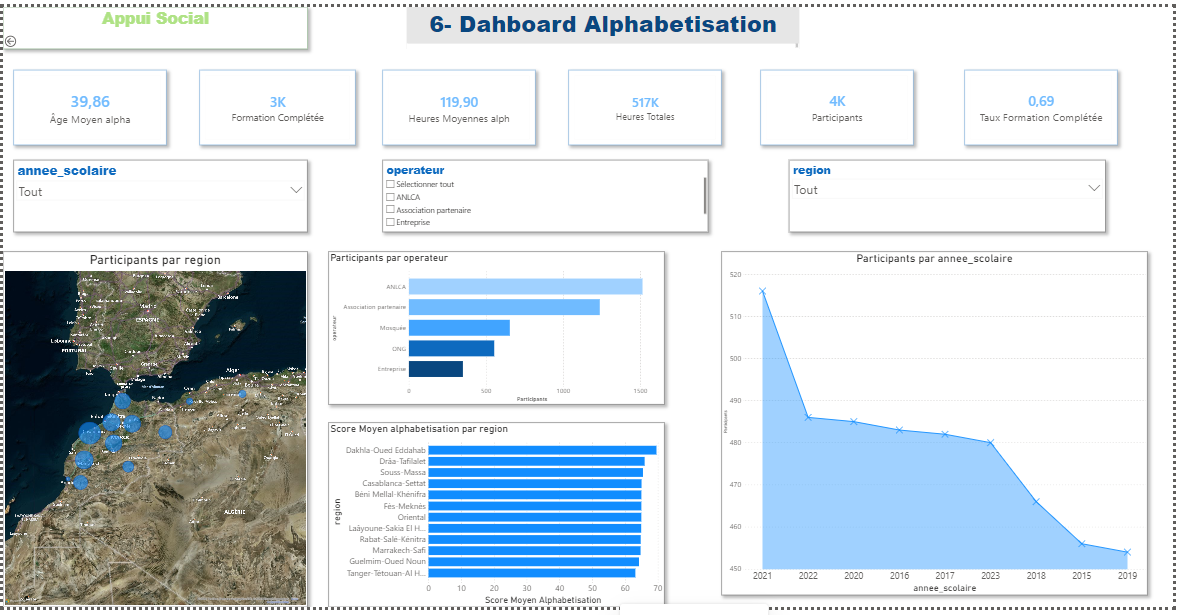

What the dashboard file says about the page in this screenshot:
{"tool":"powerbi","page":{"name":"Alphabetisation","canvas":[3900,2000],"ordinal":5},"visuals":[{"type":"map","fields":{"Category":["gold dim_region.region"],"Size":["Mesures.Participants"]},"box":[0,815,1015,1185],"z":0},{"type":"barChart","fields":{"Category":["gold dim_operateur.operateur"],"Y":["Mesures.Participants"]},"box":[1085,815,1120,510],"z":1},{"type":"barChart","title":"Score Moyen alphabetisation  par region","fields":{"Category":["gold dim_region.region"],"Y":["Mesures.Score Moyen alpha"]},"box":[1085,1385,1120,615],"z":2},{"type":"lineChart","fields":{"Y":["Mesures.Participants"],"Category":["gold dim_date.annee_scolaire"]},"box":[2395,815,1420,1145],"z":3},{"type":"textbox","title":"6- Dahboard Alphabetisation","box":[1345,0,1310,140],"z":4},{"type":"actionButton","title":"Appui Social","box":[0,0,1015,140],"z":5},{"type":"cardVisual","fields":{"Data":["Mesures.Âge Moyen alpha"]},"box":[35,210,510,250],"z":6},{"type":"cardVisual","fields":{"Data":["Mesures.Formation Complétée"]},"box":[655,210,520,250],"z":7},{"type":"cardVisual","fields":{"Data":["Mesures.Heures Moyennes alph"]},"box":[1265,210,510,250],"z":8},{"type":"cardVisual","fields":{"Data":["Mesures.Heures Totales"]},"box":[1885,210,510,250],"z":9},{"type":"cardVisual","fields":{"Data":["Mesures.Participants"]},"box":[2525,210,510,250],"z":10},{"type":"cardVisual","fields":{"Data":["Mesures.Taux Formation Complétée"]},"box":[3205,210,510,250],"z":11},{"type":"slicer","fields":{"Values":["gold dim_date.annee_scolaire"]},"box":[35,510,980,240],"z":12},{"type":"slicer","fields":{"Values":["gold dim_operateur.operateur"]},"box":[1265,510,1085,240],"z":13},{"type":"slicer","fields":{"Values":["gold dim_region.region"]},"box":[2620,510,1055,240],"z":14}]}

Visuals, with their boxes in screenshot pixels (x1, y1, x2, y2), scaled from the page's 3900x2000 canvas onto the 1177x615 screenshot:
map - gold dim_region.region x Mesures.Participants: [x1=0, y1=251, x2=306, y2=614]
barChart - gold dim_operateur.operateur x Mesures.Participants: [x1=327, y1=251, x2=665, y2=407]
"Score Moyen alphabetisation  par region" barChart: [x1=327, y1=426, x2=665, y2=614]
lineChart - Mesures.Participants x gold dim_date.annee_scolaire: [x1=723, y1=251, x2=1151, y2=603]
"6- Dahboard Alphabetisation" textbox: [x1=406, y1=0, x2=801, y2=43]
"Appui Social" actionButton: [x1=0, y1=0, x2=306, y2=43]
cardVisual - Mesures.Âge Moyen alpha: [x1=11, y1=65, x2=164, y2=141]
cardVisual - Mesures.Formation Complétée: [x1=198, y1=65, x2=355, y2=141]
cardVisual - Mesures.Heures Moyennes alph: [x1=382, y1=65, x2=536, y2=141]
cardVisual - Mesures.Heures Totales: [x1=569, y1=65, x2=723, y2=141]
cardVisual - Mesures.Participants: [x1=762, y1=65, x2=916, y2=141]
cardVisual - Mesures.Taux Formation Complétée: [x1=967, y1=65, x2=1121, y2=141]
slicer - gold dim_date.annee_scolaire: [x1=11, y1=157, x2=306, y2=231]
slicer - gold dim_operateur.operateur: [x1=382, y1=157, x2=709, y2=231]
slicer - gold dim_region.region: [x1=791, y1=157, x2=1109, y2=231]
